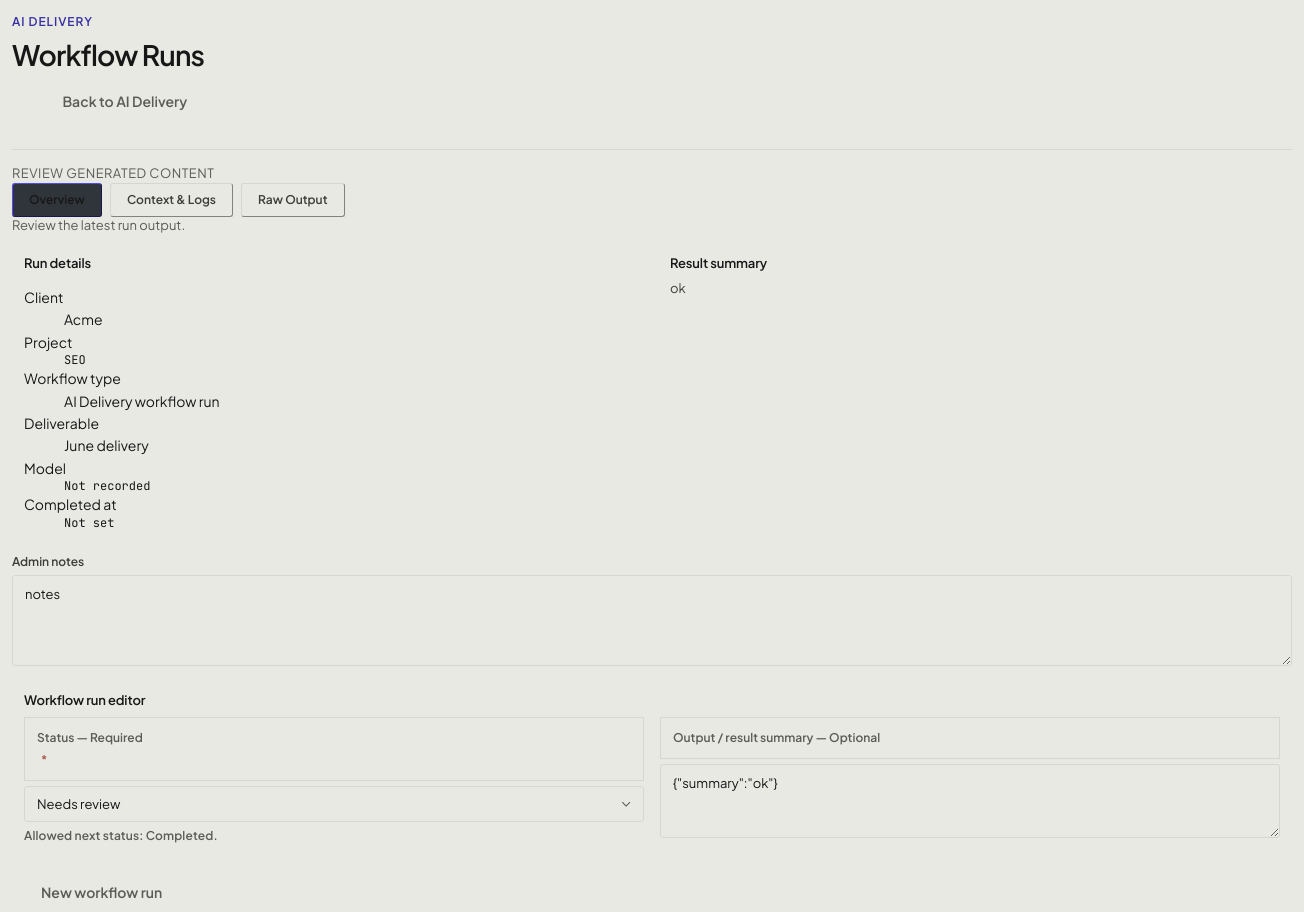
it: AiRunReviewModal › shows raw output safely when no run is selected
Click the tab "Raw Output". click: [293, 200]
box: [241, 183, 344, 217]
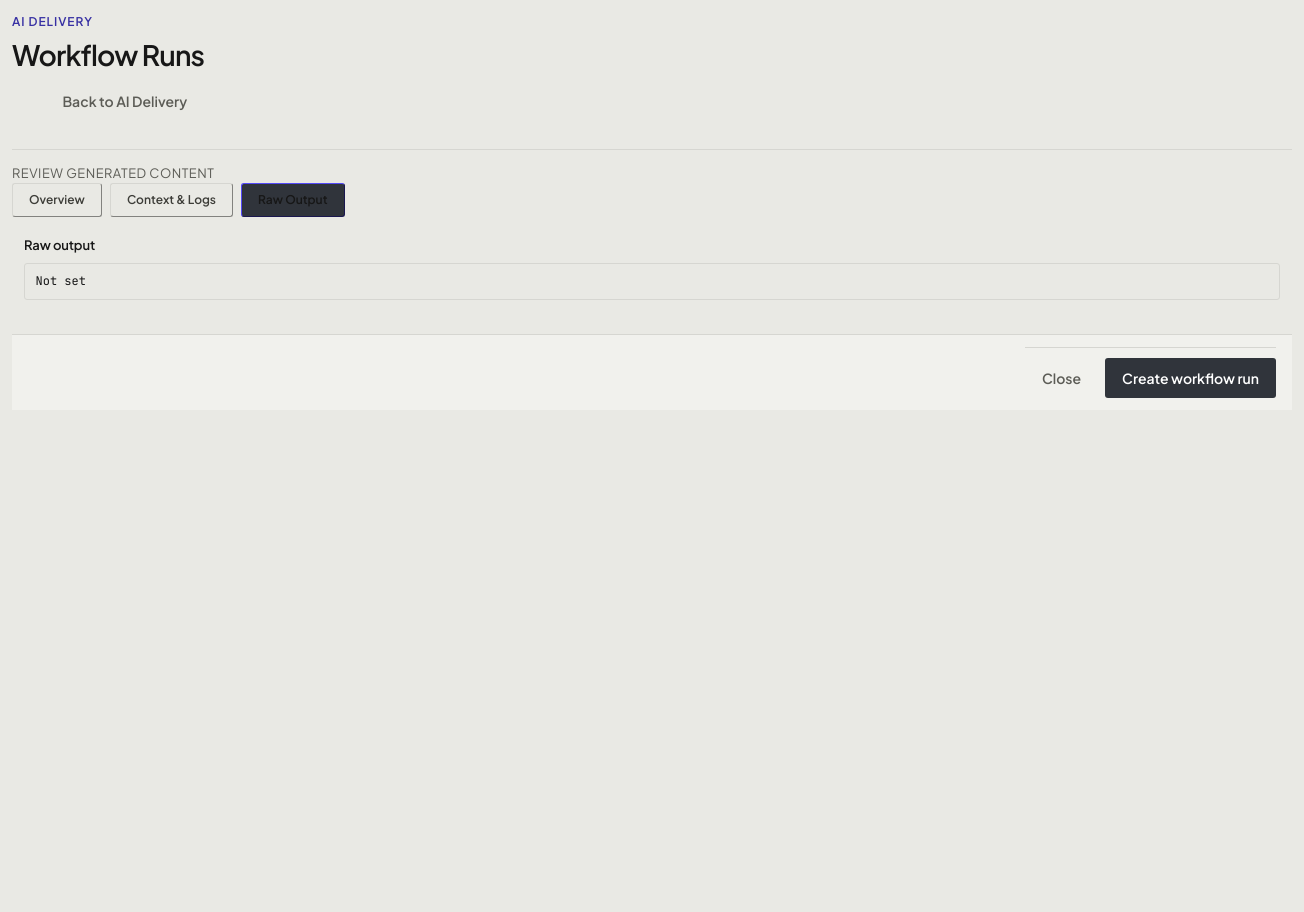
Expected: the text "Not set" is shown, [24, 262, 1280, 300]
Now the heading "Raw output" is shown, box [24, 237, 95, 253]
